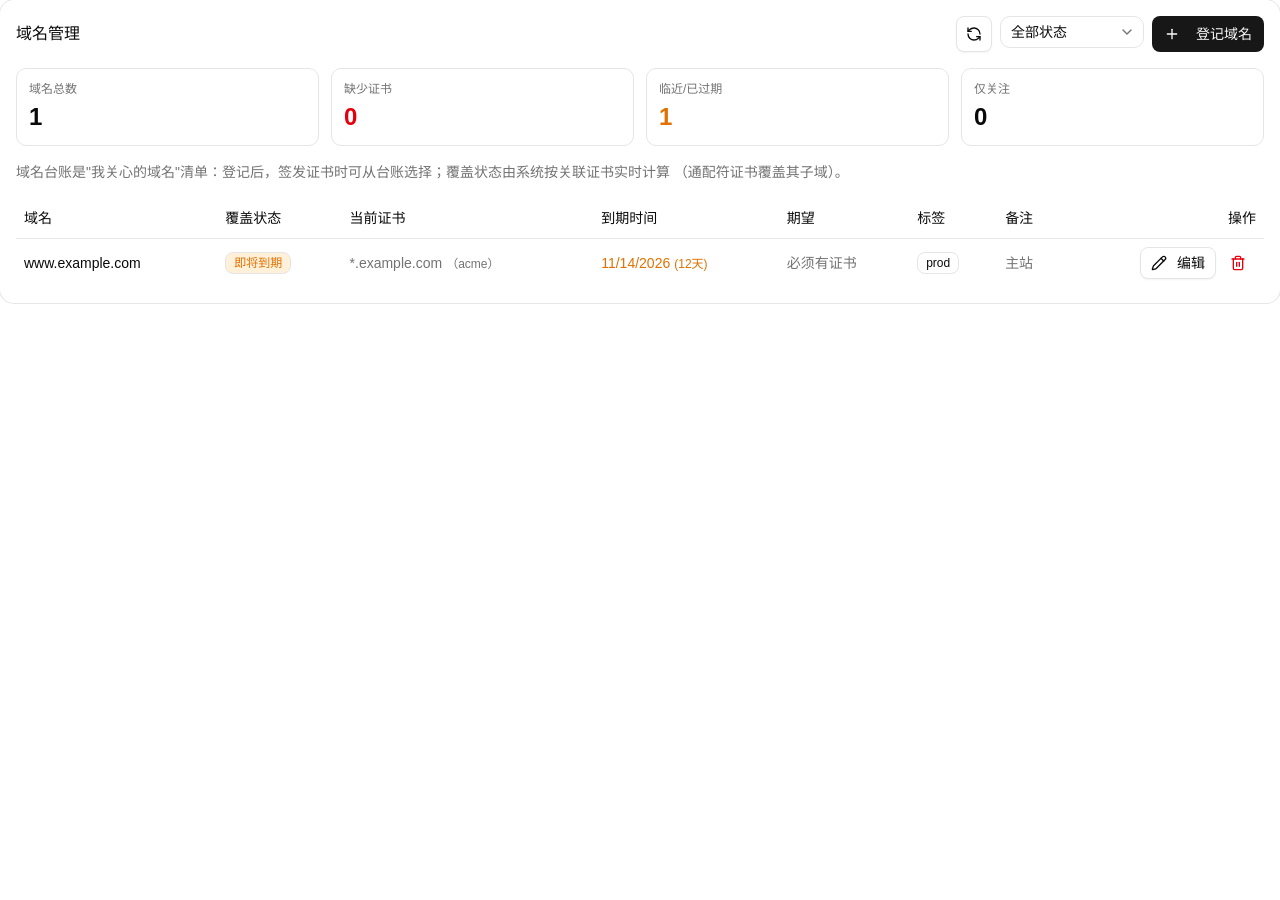
DomainsPage › 编辑弹窗：期望状态显示中文标签而非原始 value
The image size is (1280, 900).
Expected: the text "www.example.com" is shown, left=16, top=238, right=217, bottom=286
Click the button "编辑" at (1178, 262), box left=1140, top=246, right=1216, bottom=278
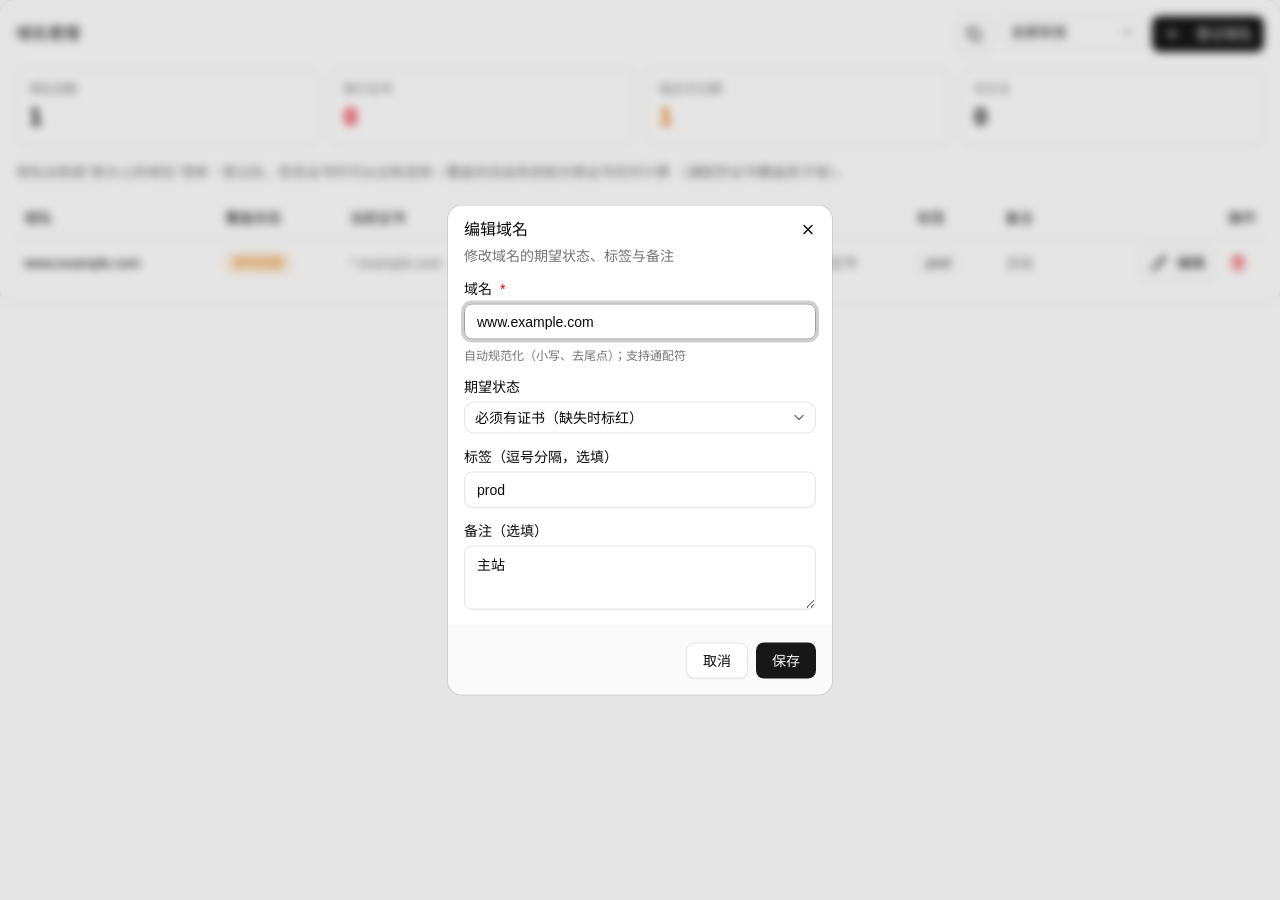
Expected: the text "必须有证书（缺失时标红）" is shown, left=475, top=410, right=643, bottom=426
